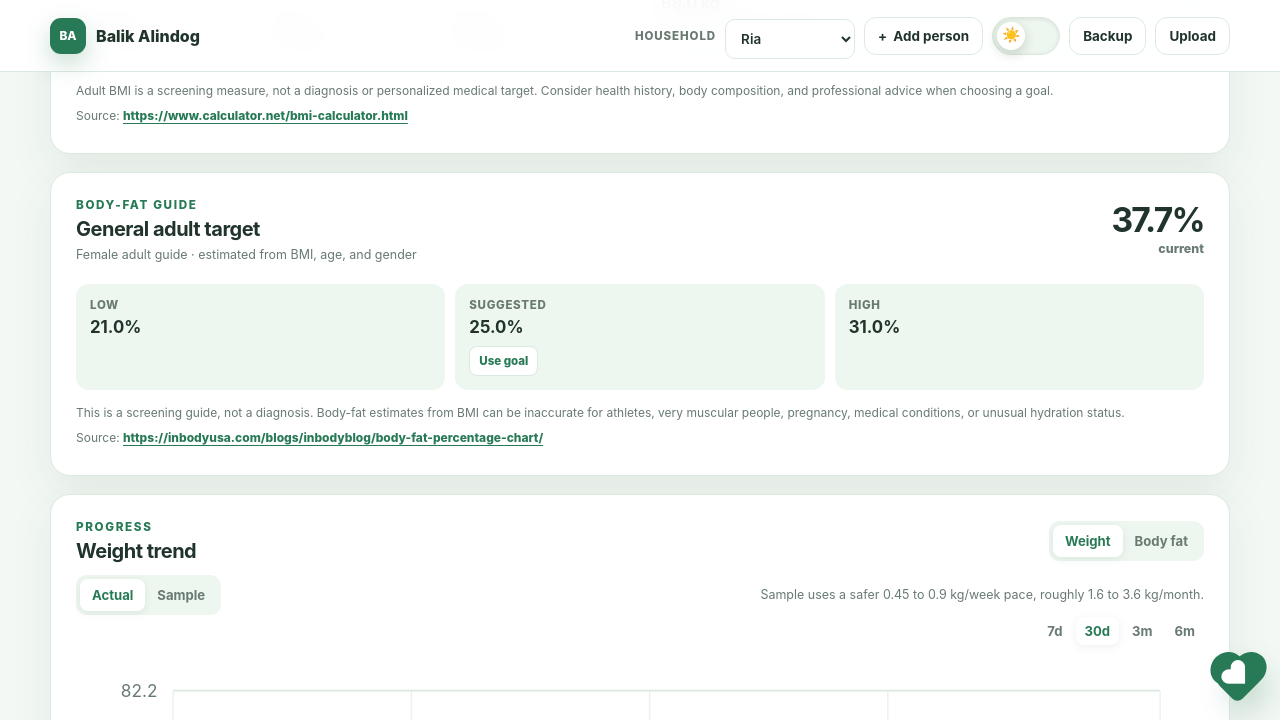
Test: Balik Alindog Tracker › shows adult body-fat guidance and can set the suggested goal
(page scrolled)
Check: the heading "General adult target" is shown, box [76,217,260,241]
Click the button "Use goal".
click(504, 361)  # box [469,346,538,376]
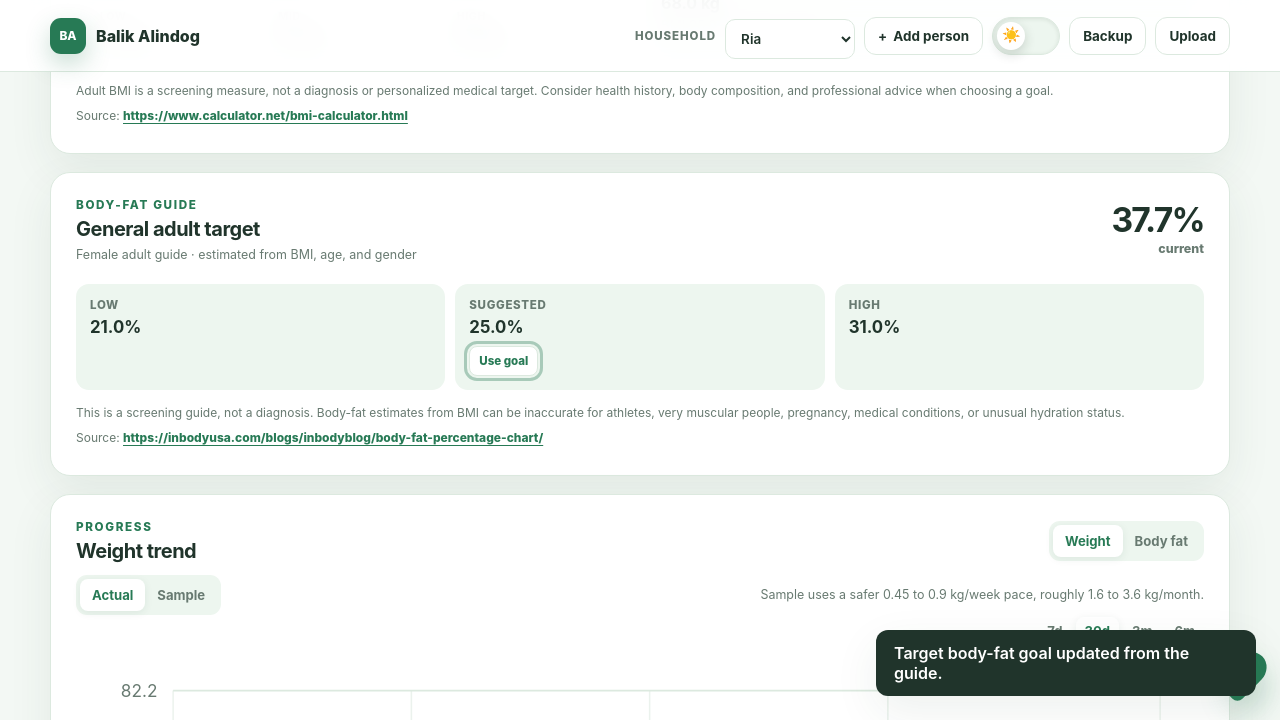
Check: the text "Target body-fat goal updated from the guide." is shown, box [876,630,1256,696]
